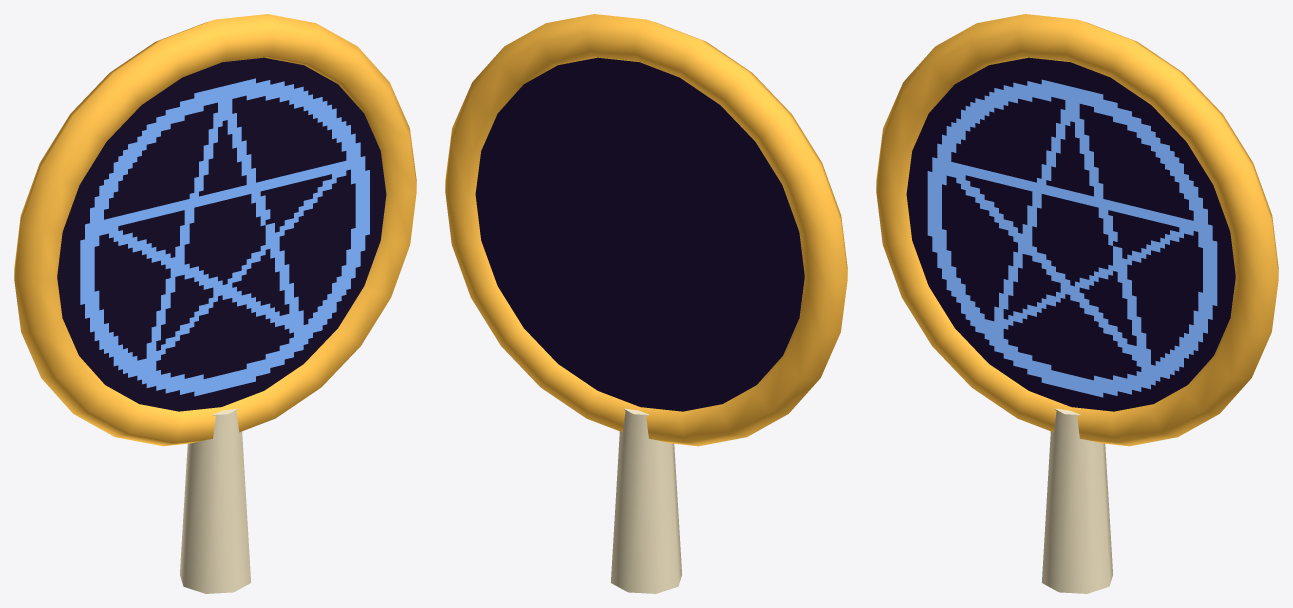
Rendered from blackMirror.glb.
3 views of the same model, side by side, from view 1: azimuth 30°, elevation 25°; view 2: azimuth 150°, elevation 25°; view 3: azimuth 330°, elevation 25° (orthographic).
Visible parts, largest first — view 1: blackMirror; view 2: blackMirror; view 3: blackMirror.
Part boxes in pixels (left/top/right/bottom): blackMirror: left=14, top=14, right=416, bottom=593; blackMirror: left=445, top=14, right=847, bottom=593; blackMirror: left=876, top=14, right=1278, bottom=593.
Size of the model in its own units: 0.302 by 0.401 by 0.048.
4 materials, 1 textured.
